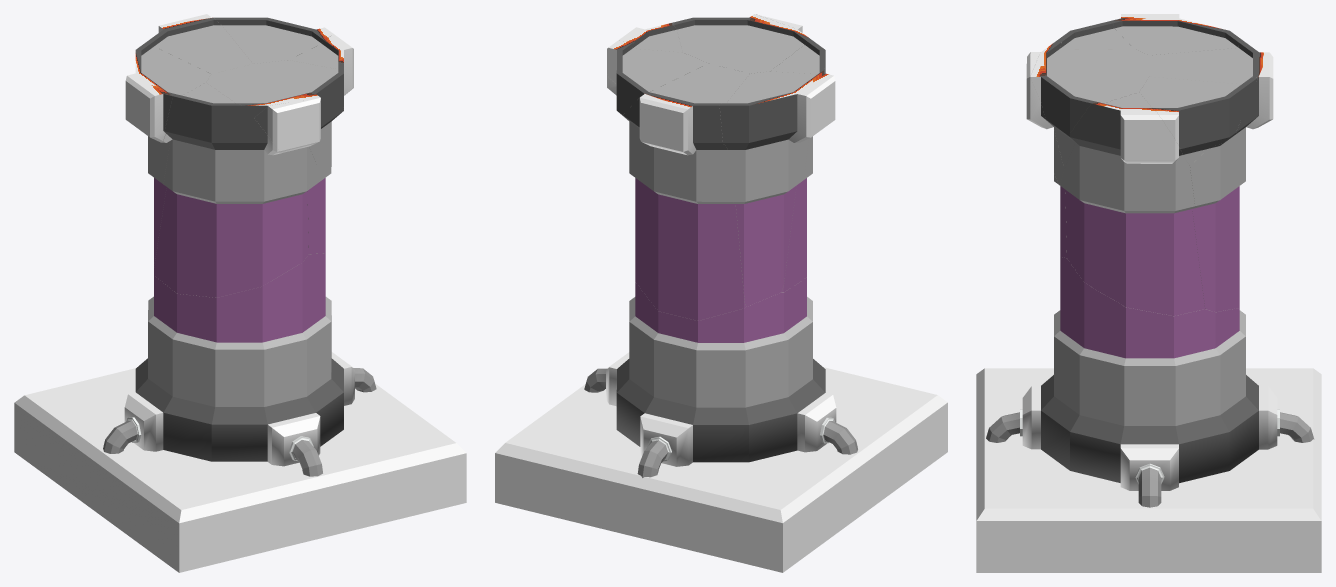
Rendered from Thung_Fractured.fbx.
3 renders of one model, left to right at view 1: azimuth 30°, elevation 25°; view 2: azimuth 150°, elevation 25°; view 3: azimuth 270°, elevation 25°, orthographic. The views are drawn at different scales.
Parts seen in each view (by area): view 1: polySurface34.006, polySurface34.004_cell.002, polySurface34.004_cell.005, polySurface34.004_cell.007, polySurface34.004_cell.003, polySurface34.004_cell, polySurface34.004_cell.006, polySurface34.004_cell.004, polySurface34.004_cell.001, polySurface34.001, polySurface34.005; view 2: polySurface34.006, polySurface34.004_cell.002, polySurface34.004_cell, polySurface34.004_cell.007, polySurface34.004_cell.003, polySurface34.004_cell.004, polySurface34.004_cell.005, polySurface34.004_cell.006, polySurface34.003, polySurface34.005; view 3: polySurface34.006, polySurface34.004_cell.002, polySurface34.004_cell.006, polySurface34.004_cell, polySurface34.004_cell.003, polySurface34.004_cell.004, polySurface34.004_cell.007, polySurface34.004_cell.005, polySurface34.004_cell.001, polySurface34.002, polySurface34.003, polySurface34.001.
Part boxes in pixels (x1=…): polySurface34.006: x1=14, y1=352, x2=466, y2=572; polySurface34.004_cell.002: x1=124, y1=253, x2=354, y2=466; polySurface34.004_cell.005: x1=154, y1=83, x2=310, y2=297; polySurface34.004_cell.007: x1=125, y1=39, x2=211, y2=266; polySurface34.004_cell.003: x1=206, y1=60, x2=343, y2=164; polySurface34.004_cell: x1=150, y1=14, x2=252, y2=73; polySurface34.004_cell.006: x1=289, y1=34, x2=353, y2=253; polySurface34.004_cell.004: x1=214, y1=17, x2=333, y2=63; polySurface34.004_cell.001: x1=254, y1=98, x2=320, y2=187; polySurface34.001: x1=289, y1=436, x2=322, y2=476; polySurface34.005: x1=103, y1=417, x2=141, y2=453; polySurface34.006: x1=495, y1=352, x2=947, y2=572; polySurface34.004_cell.002: x1=606, y1=277, x2=836, y2=466; polySurface34.004_cell: x1=623, y1=63, x2=749, y2=320; polySurface34.004_cell.007: x1=719, y1=68, x2=835, y2=306; polySurface34.004_cell.003: x1=673, y1=14, x2=809, y2=73; polySurface34.004_cell.004: x1=607, y1=40, x2=707, y2=116; polySurface34.004_cell.005: x1=770, y1=39, x2=825, y2=292; polySurface34.004_cell.006: x1=607, y1=22, x2=682, y2=95; polySurface34.003: x1=637, y1=436, x2=671, y2=477; polySurface34.005: x1=820, y1=417, x2=857, y2=454; polySurface34.006: x1=976, y1=368, x2=1321, y2=572; polySurface34.004_cell.002: x1=1022, y1=257, x2=1277, y2=490; polySurface34.004_cell.006: x1=1060, y1=92, x2=1204, y2=315; polySurface34.004_cell: x1=1149, y1=42, x2=1273, y2=312; polySurface34.004_cell.003: x1=1030, y1=42, x2=1149, y2=168; polySurface34.004_cell.004: x1=1139, y1=76, x2=1257, y2=165; polySurface34.004_cell.007: x1=1111, y1=14, x2=1244, y2=55; polySurface34.004_cell.005: x1=1054, y1=21, x2=1133, y2=257; polySurface34.004_cell.001: x1=1026, y1=52, x2=1064, y2=185; polySurface34.002: x1=1135, y1=463, x2=1164, y2=507; polySurface34.003: x1=1277, y1=409, x2=1314, y2=442; polySurface34.001: x1=986, y1=409, x2=1022, y2=442.
Bounding box in the file's own units: 704 × 972 × 699.
